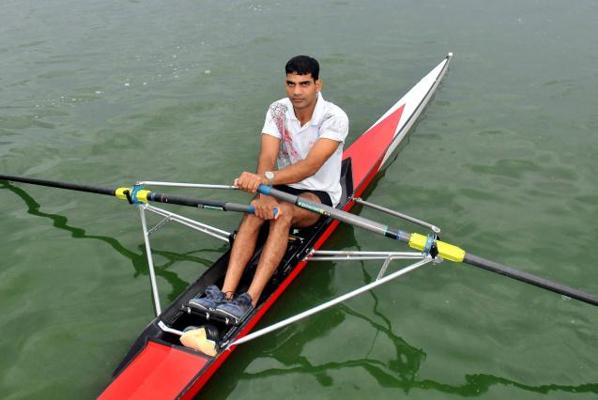person: (186, 53, 350, 324)
